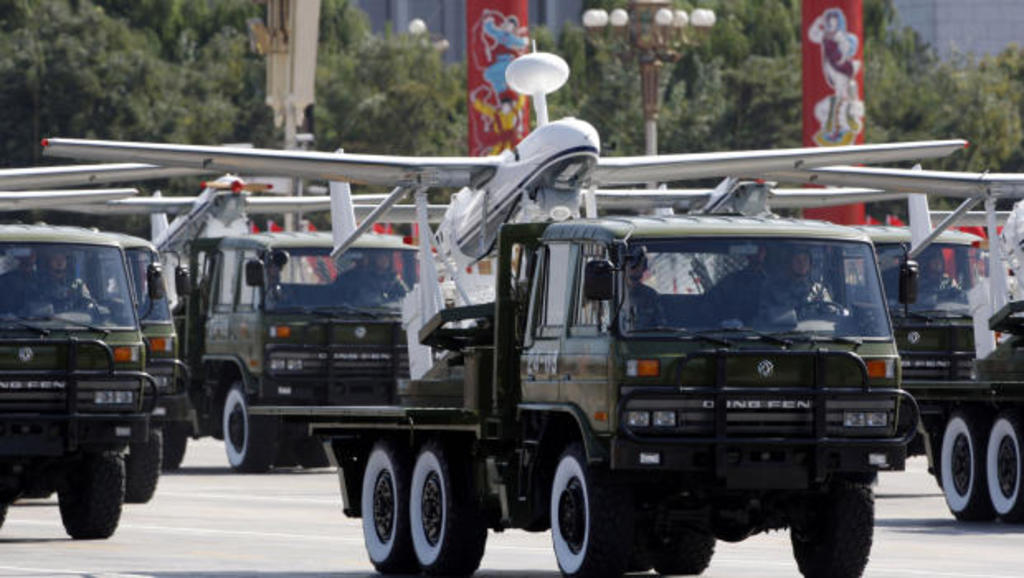truck: (261, 181, 909, 577), (163, 211, 435, 463), (1, 210, 161, 539), (845, 216, 999, 420)
